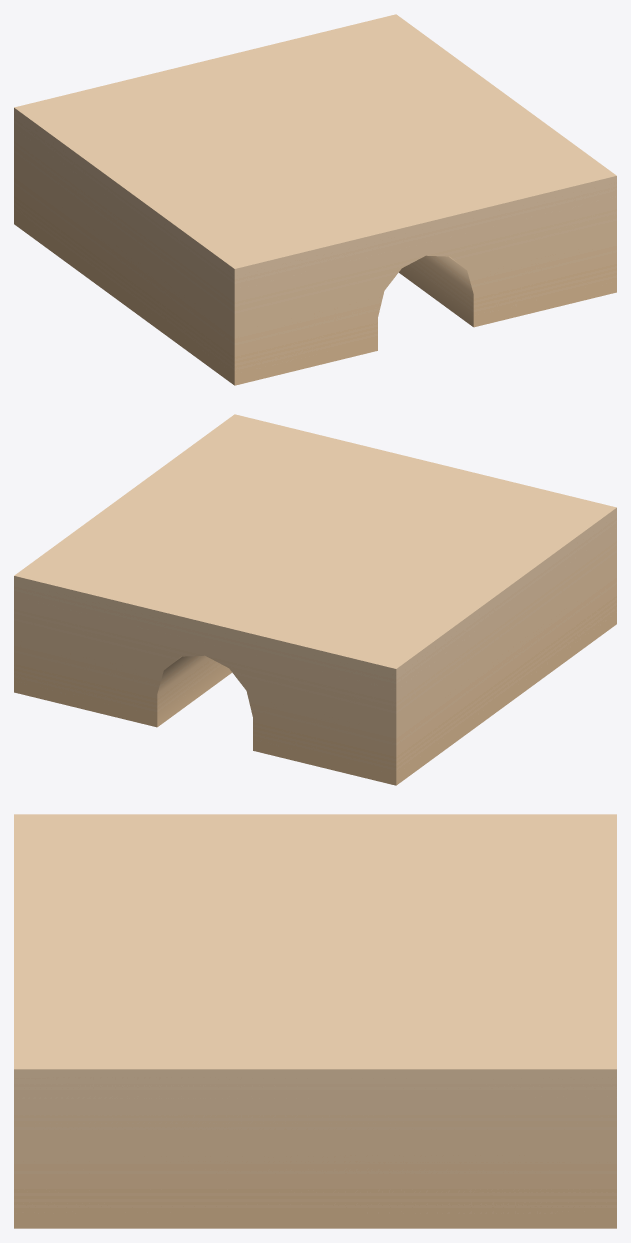
Rendered from structure-gate.glb.
3 renders of one model, top to bottom at view 1: azimuth 30°, elevation 25°; view 2: azimuth 150°, elevation 25°; view 3: azimuth 270°, elevation 25°, orthographic. The views are drawn at different scales.
Visible parts, largest first — view 1: structure-gate; view 2: structure-gate; view 3: structure-gate.
Part boxes in pixels (x1,y1,x2,y2): structure-gate: [14, 14, 616, 385]; structure-gate: [14, 414, 616, 785]; structure-gate: [14, 814, 616, 1228].
Size of the model in its own units: 0.7999 by 0.2333 by 0.7999.
1 material, 1 textured.
